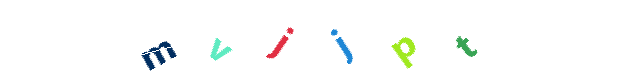J: (240, 0, 320, 80), (270, 0, 350, 80)
M: (118, 0, 198, 80)
P: (336, 0, 416, 80)
T: (364, 0, 444, 80)
V: (202, 0, 282, 80)
